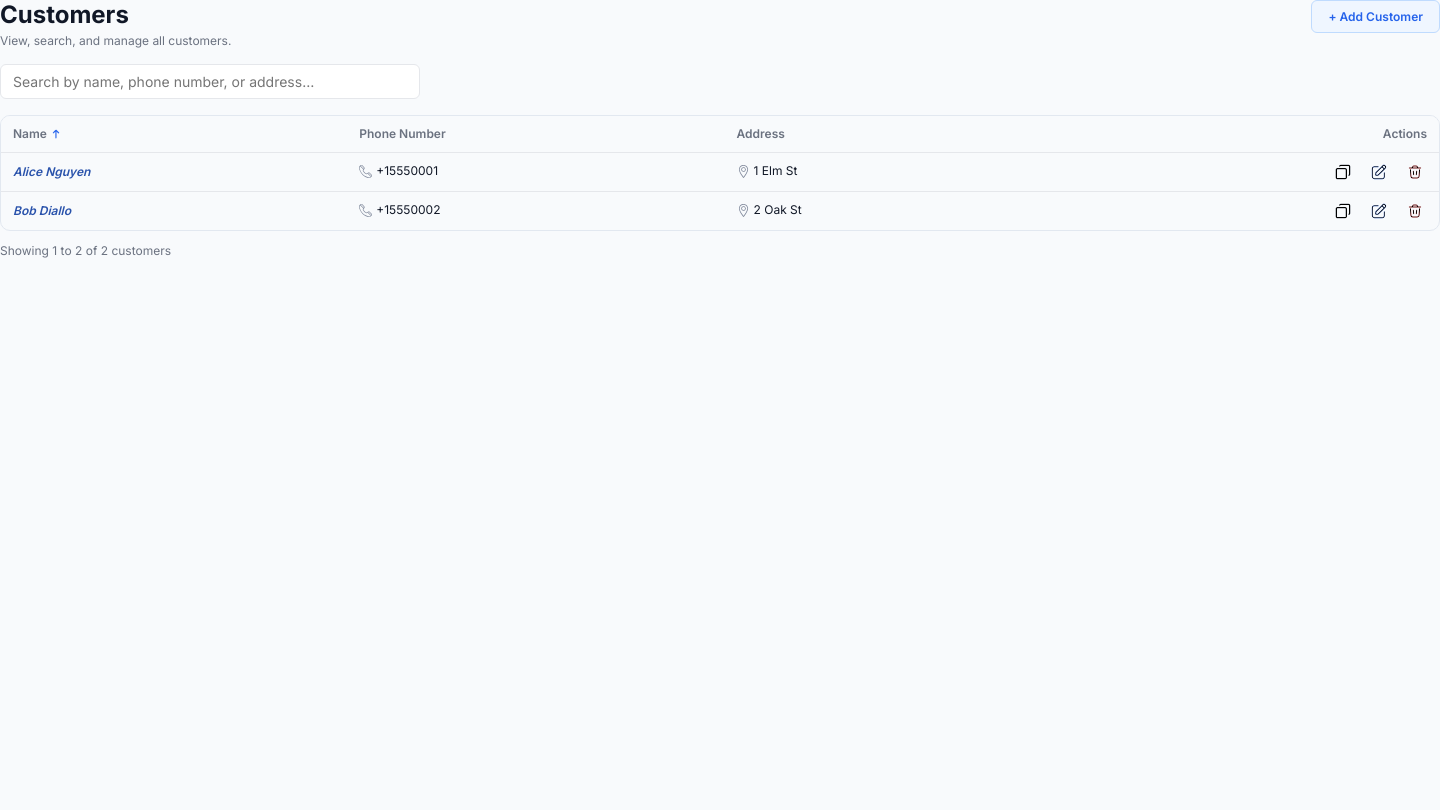
Test: CustomerManager › deletes a customer after confirming, and shows the backend message on a 409 conflict
The width and height of the screenshot is (1440, 810).
expect the button "Bob Diallo" is shown: met, box x1=13 y1=205 x2=71 y2=217
Click the button named "Delete" in the row of "+15550002". click: (1415, 211)
box: x1=1403 y1=199 x2=1427 y2=223
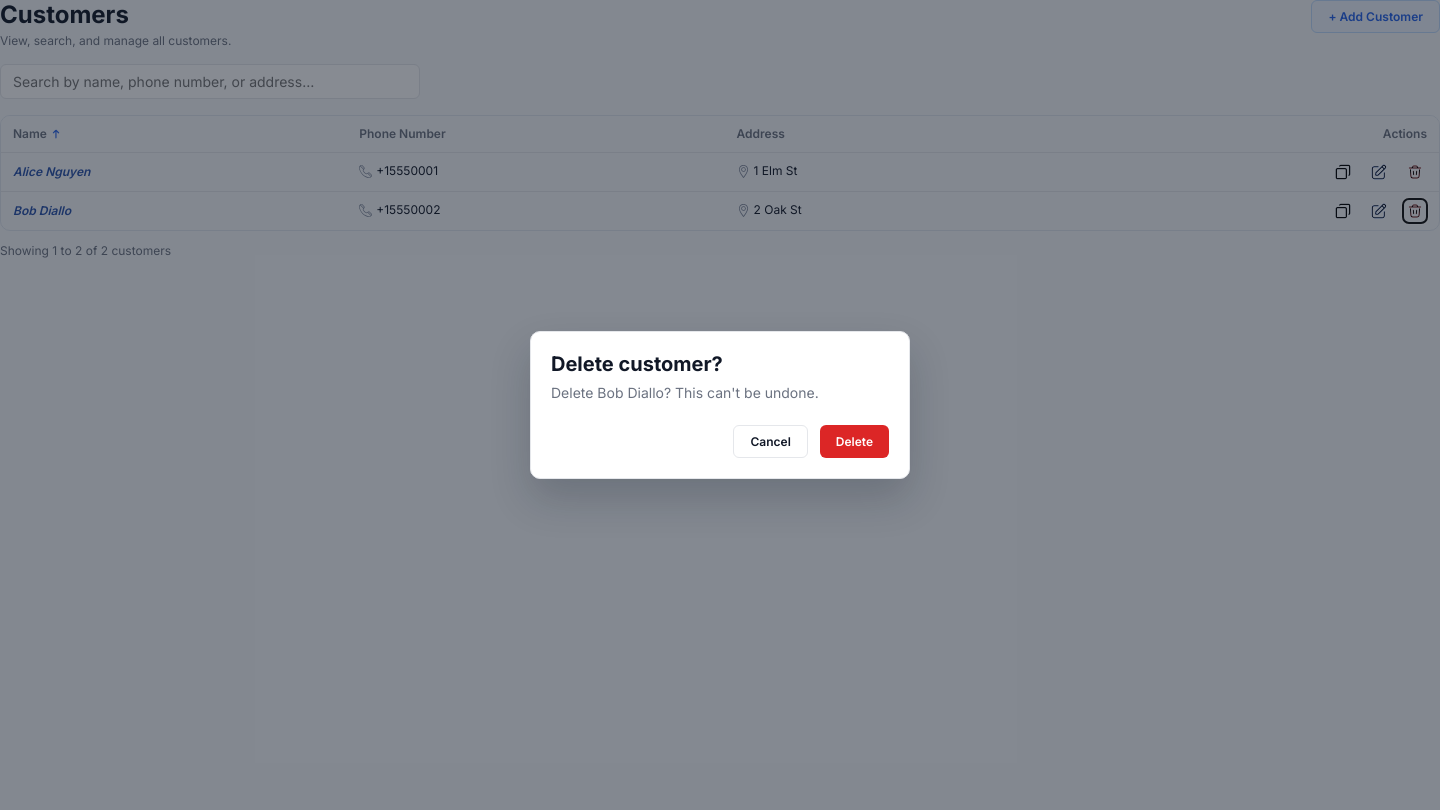
Click the button "Delete". click: (854, 442)
box: x1=820 y1=425 x2=889 y2=458
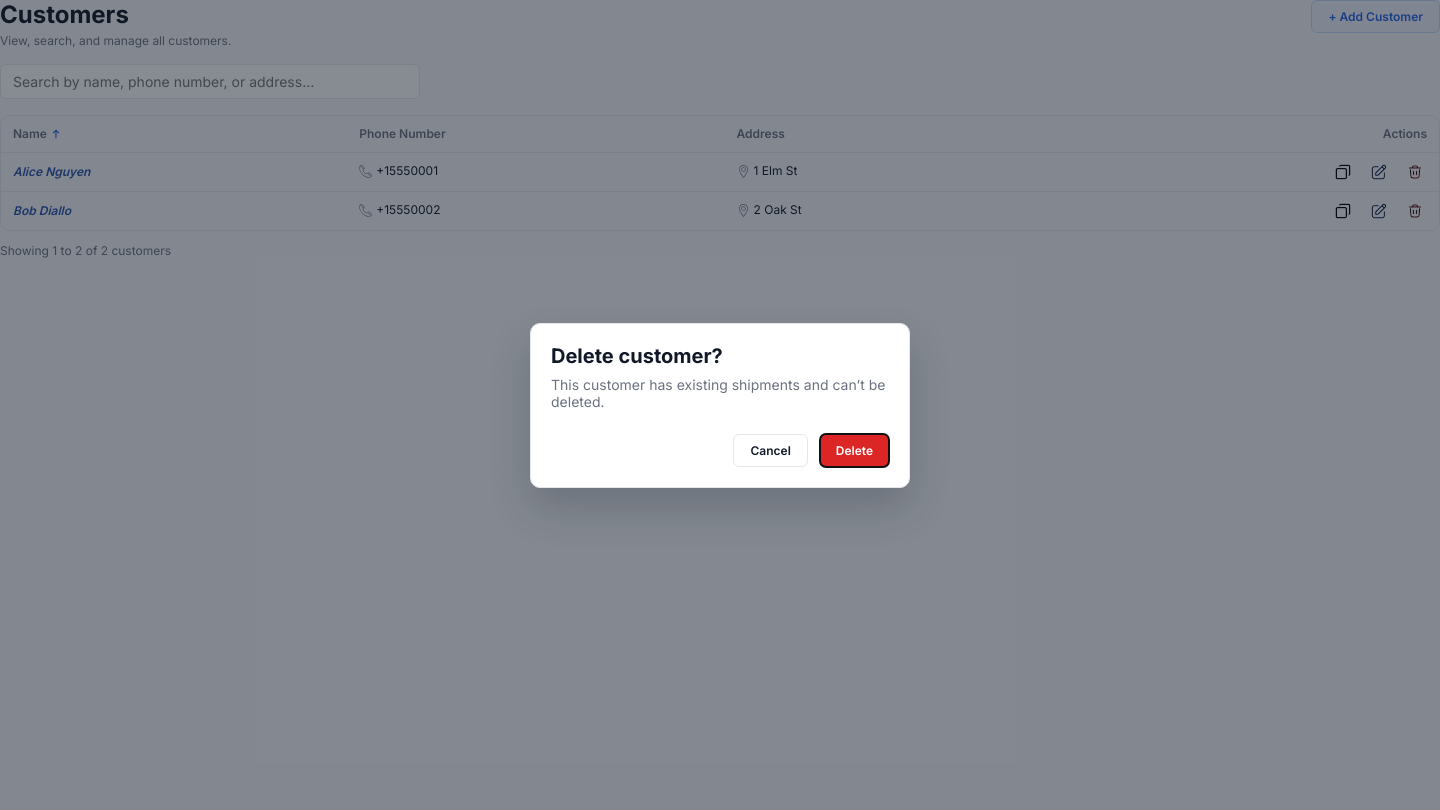
expect the text "This customer has existing shipments and can’t be deleted." is shown: met, box x1=551 y1=376 x2=889 y2=410
